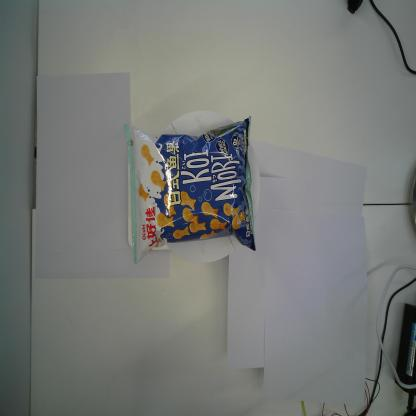Puffed Food: (122, 114, 257, 265)
